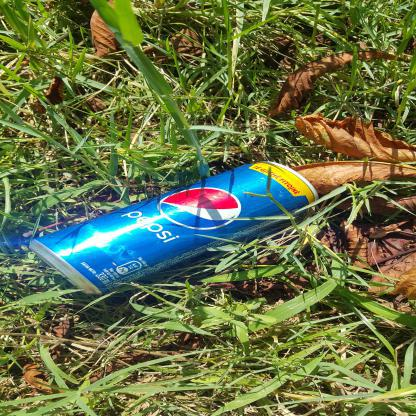metal: (161, 97, 293, 391)
